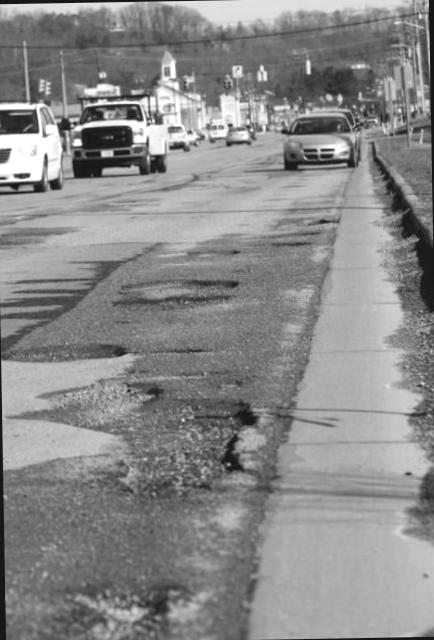Pothole: (1, 366, 262, 532), (59, 534, 262, 640), (110, 260, 231, 314), (0, 334, 134, 374)
